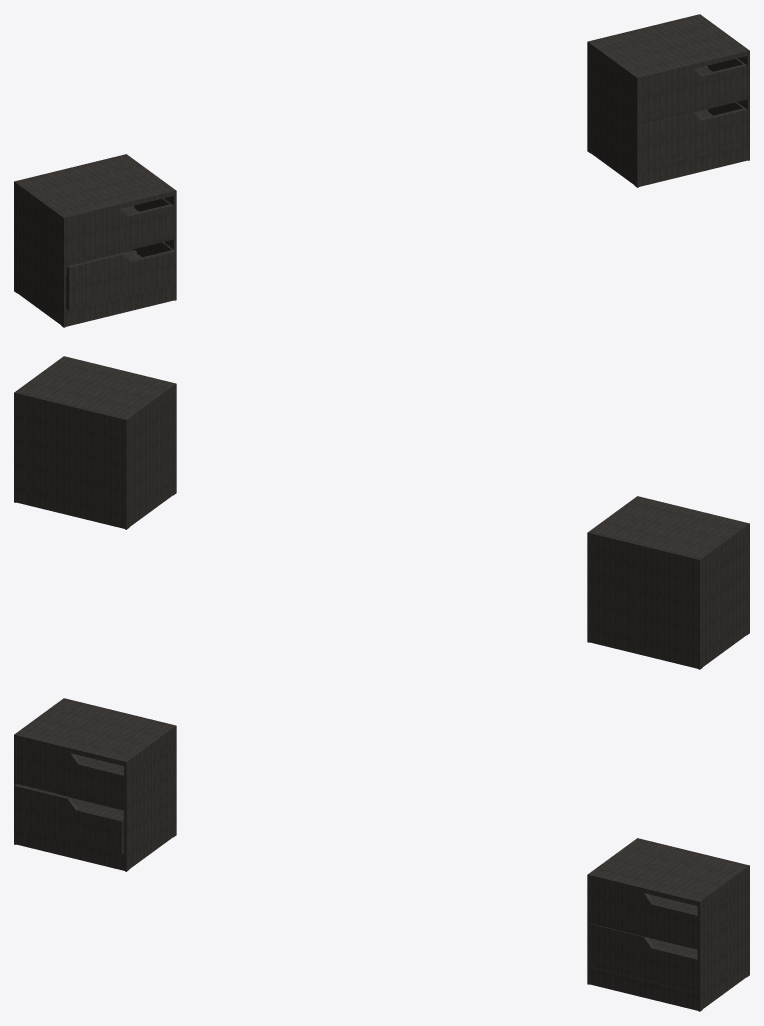
Rendered from mesasnoche.dae.
3 renders of one model, top to bottom at view 1: azimuth 30°, elevation 25°; view 2: azimuth 150°, elevation 25°; view 3: azimuth 330°, elevation 25°, orthographic.
Visible parts, largest first — view 1: node; view 2: node; view 3: node.
Boxes of the visible parts, box(x1,y1,x2,y2) form: node: box(14, 14, 749, 327); node: box(14, 356, 749, 669); node: box(14, 698, 749, 1011).
Bounding box in the file's own units: 3432 × 525 × 454.
Materials: 1 (1 with a texture image).
